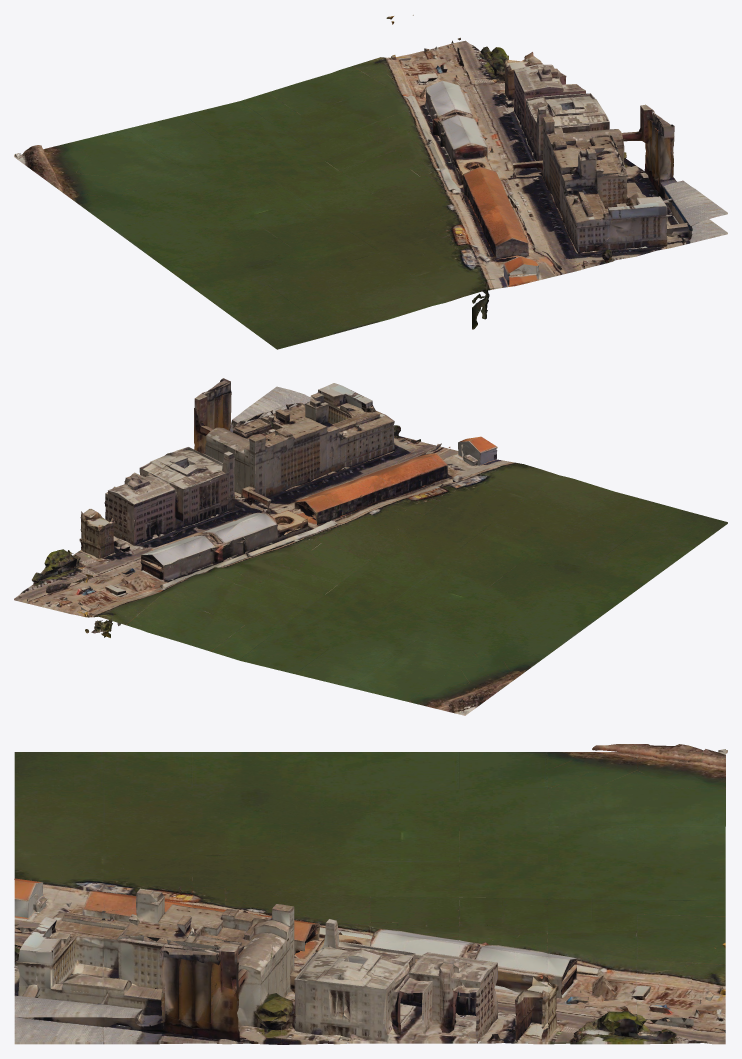
Rendered from porto_digital_nordeste.glb.
The picture shows the model from 3 angles, top to bottom: view 1: azimuth 30°, elevation 25°; view 2: azimuth 150°, elevation 25°; view 3: azimuth 270°, elevation 25°; orthographic projection. The views are drawn at different scales.
Parts seen in each view (by area): view 1: porto_digital_nordeste; view 2: porto_digital_nordeste; view 3: porto_digital_nordeste.
Boxes of the visible parts, x1,y1,x2,y2 form: porto_digital_nordeste: (14, 15, 727, 349); porto_digital_nordeste: (14, 378, 727, 715); porto_digital_nordeste: (14, 744, 727, 1044).
Size of the model in its own units: 306 by 66.55 by 309.
1 material, 1 textured.
